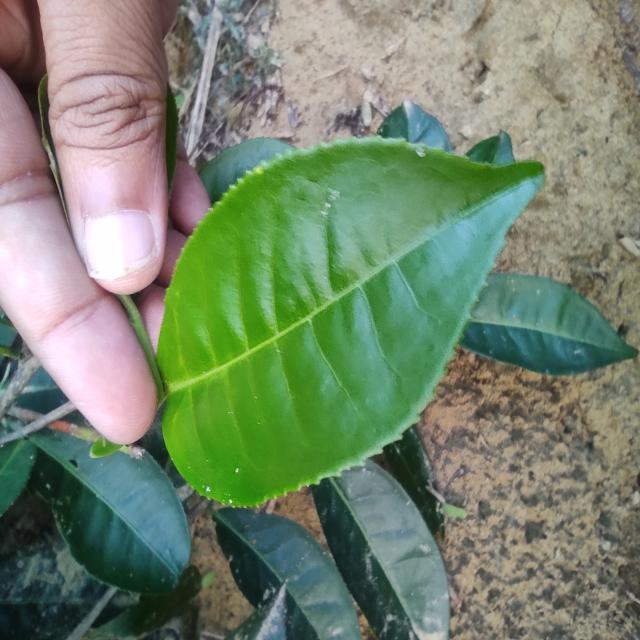Category C(4-7 days): (101, 82, 554, 543)
